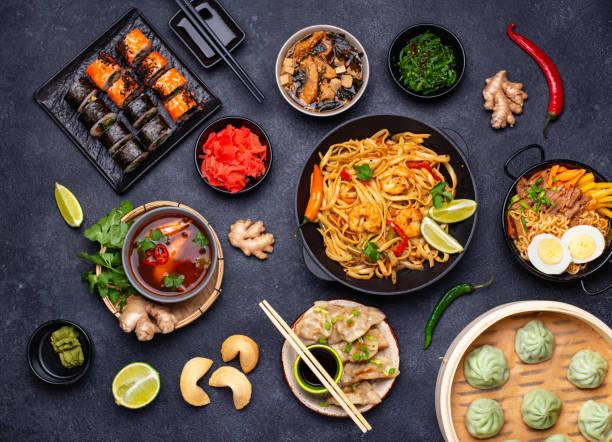Braised Crucian Carp: (33, 7, 225, 194), (294, 114, 474, 295), (433, 300, 610, 441), (501, 145, 610, 291), (284, 298, 399, 417), (122, 205, 217, 303), (274, 23, 369, 118), (387, 22, 468, 103), (193, 115, 271, 194)
